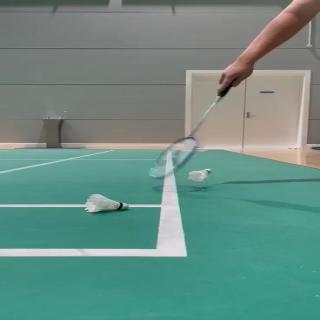Shuttle: (84, 194, 129, 213), (188, 168, 211, 182)
